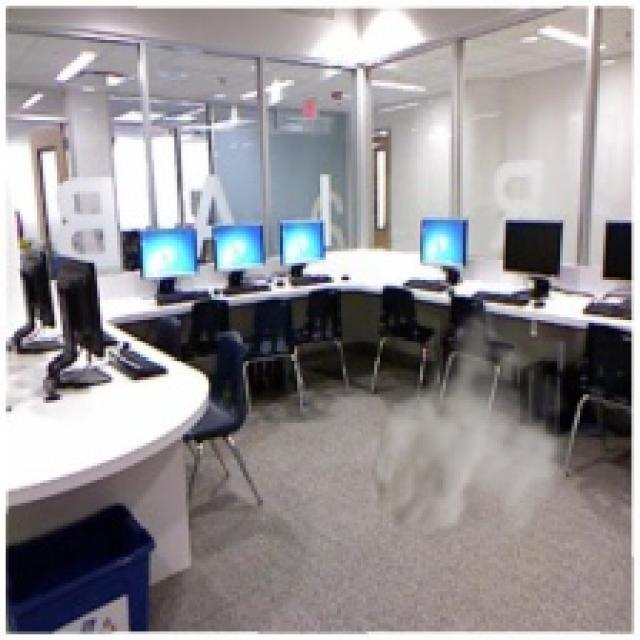smoke: (352, 297, 574, 566)
